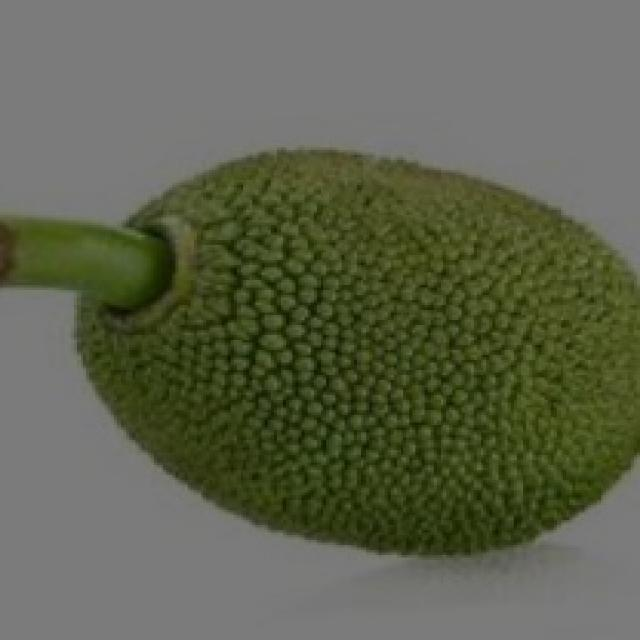Fruit: (255, 130, 640, 558), (49, 127, 434, 555)
